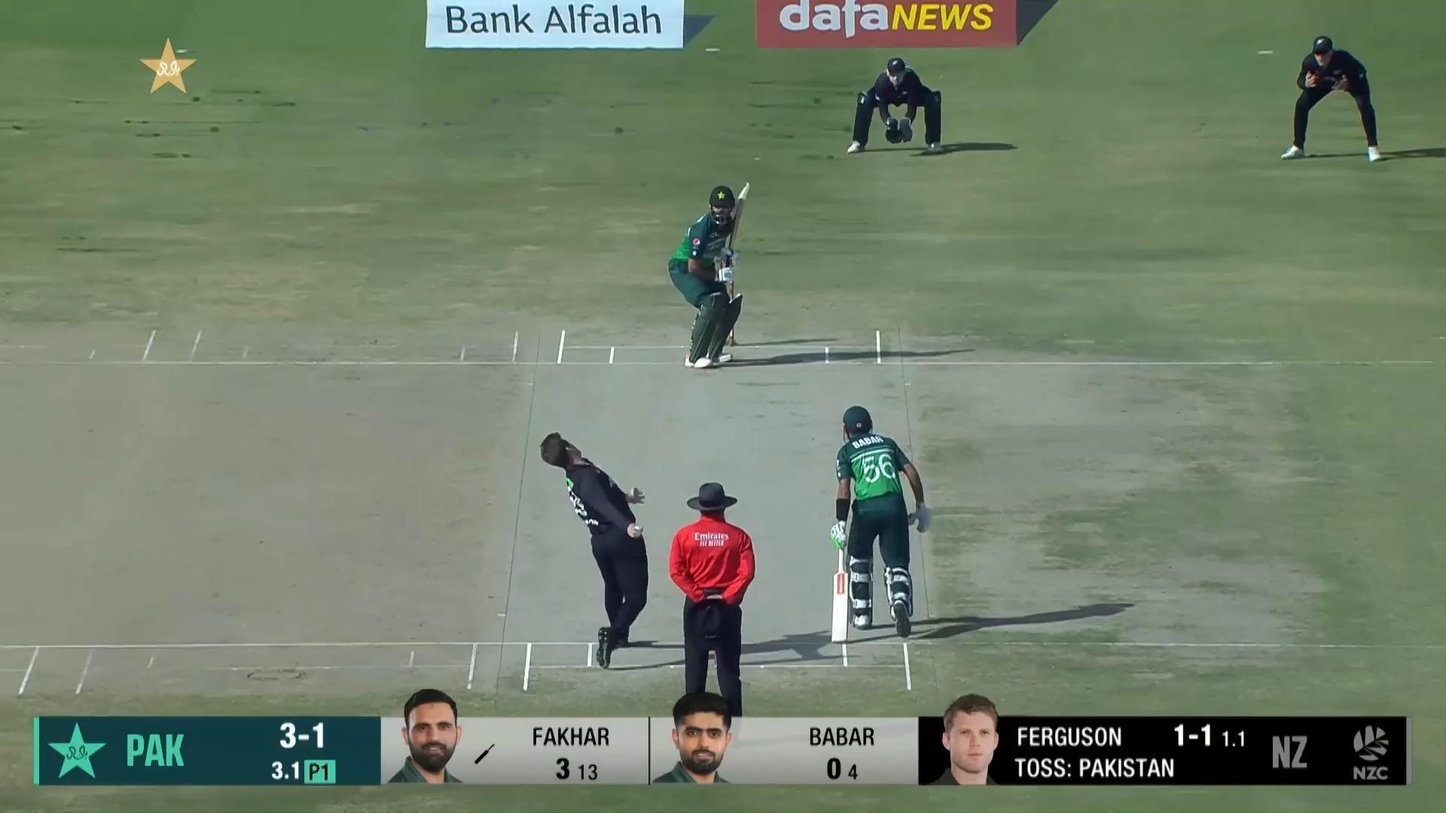BM 1: (667, 180, 753, 371)
BO: (538, 430, 650, 671)
